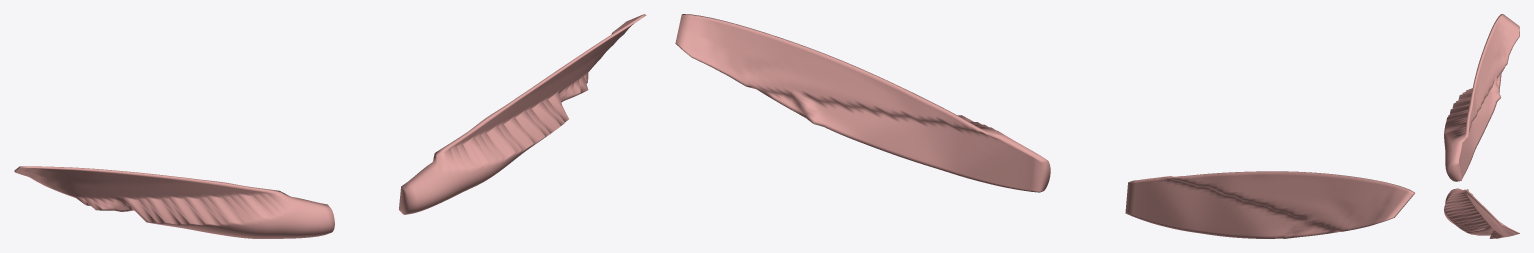
Rendered from corrugator_lod1.glb.
3 renders of one model, left to right at view 1: azimuth 30°, elevation 25°; view 2: azimuth 150°, elevation 25°; view 3: azimuth 270°, elevation 25°, orthographic. The views are drawn at different scales.
Parts seen in each view (by area): view 1: corrugator_R_lod1, corrugator_L_lod1; view 2: corrugator_L_lod1, corrugator_R_lod1; view 3: corrugator_R_lod1, corrugator_L_lod1.
Part boxes in pixels (x1,y1,x2,y2): corrugator_R_lod1: [14, 166, 334, 238]; corrugator_L_lod1: [399, 14, 646, 214]; corrugator_L_lod1: [675, 14, 1050, 192]; corrugator_R_lod1: [1125, 171, 1414, 238]; corrugator_R_lod1: [1444, 14, 1519, 181]; corrugator_L_lod1: [1444, 188, 1519, 238].
Size of the model in its own units: 0.0451 by 0.00747 by 0.00684.
